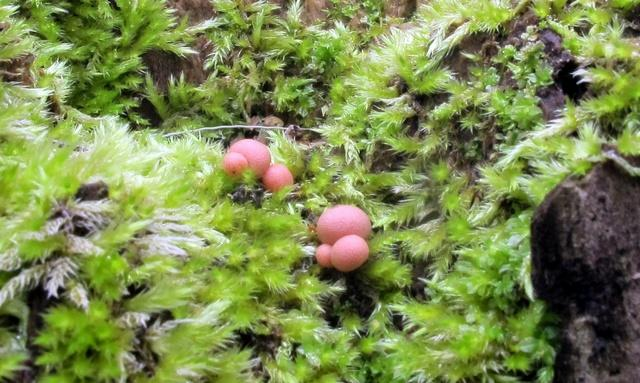Non-edible Mushroom: (315, 203, 371, 244), (222, 137, 271, 180), (329, 233, 369, 272), (261, 163, 294, 192), (221, 151, 248, 177), (314, 242, 332, 268)
